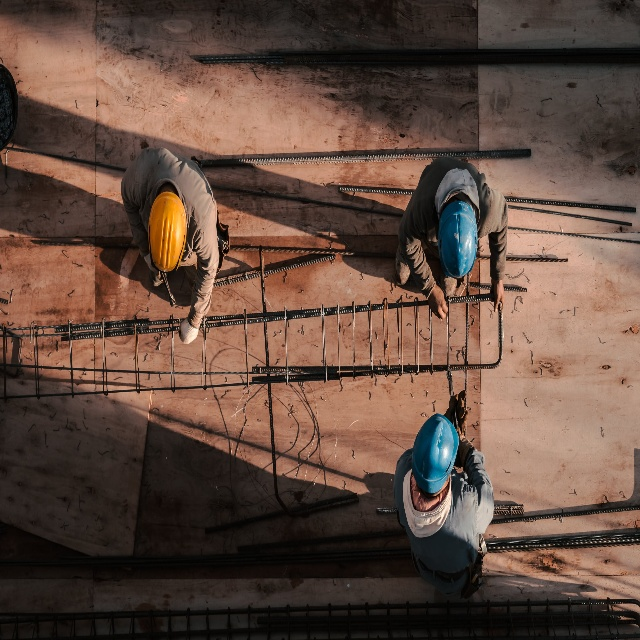Gafas: (148, 224, 185, 274)
Guantes: (445, 389, 467, 432), (455, 426, 473, 467), (178, 316, 199, 345), (144, 252, 159, 276)
Sin_guantes: (427, 286, 448, 319), (488, 279, 505, 315)
